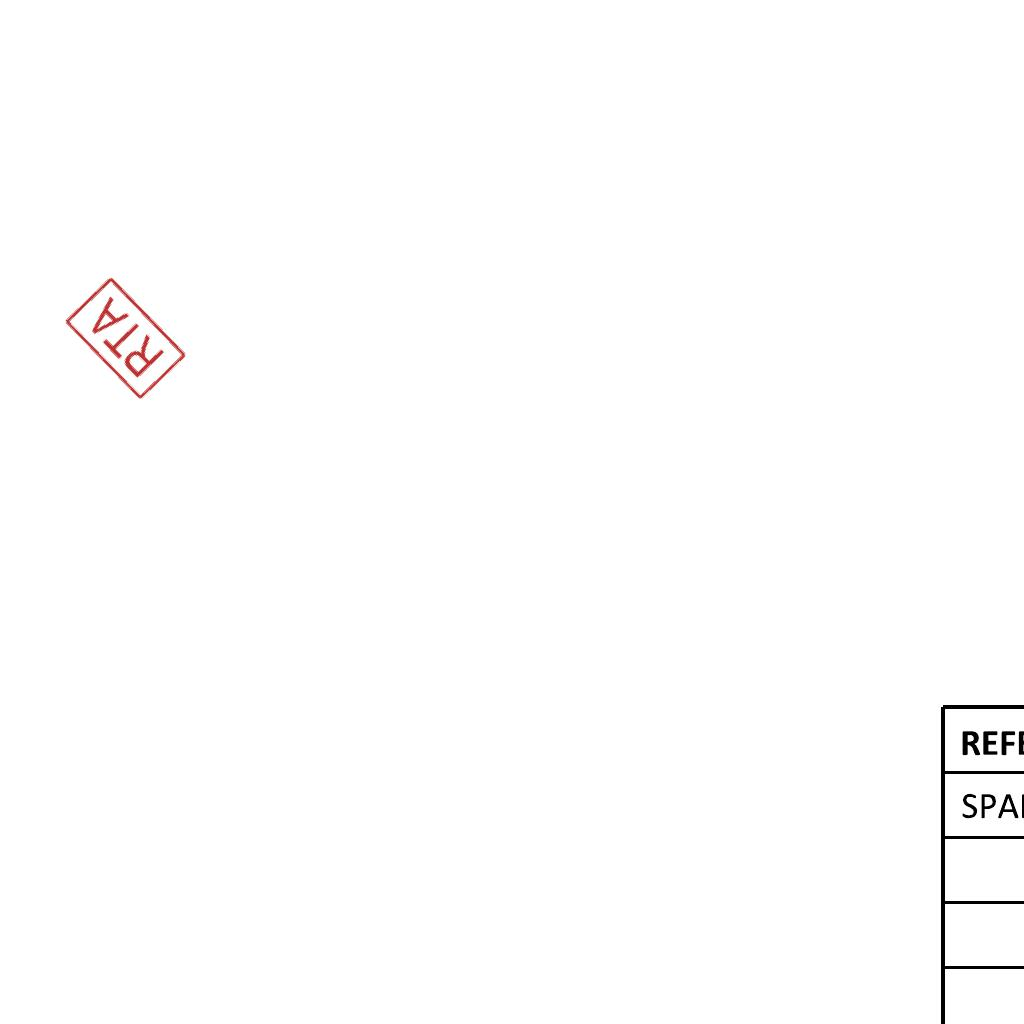Ruf-und_Abstelltaster: (62, 274, 191, 404)
